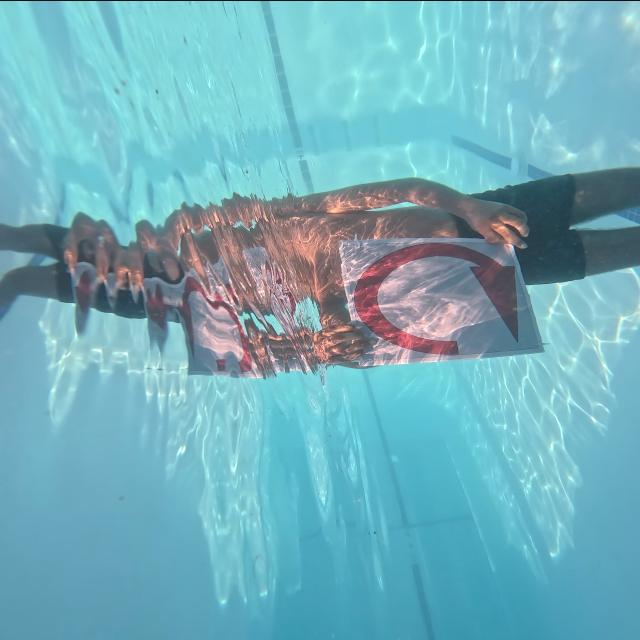red_side: (338, 240, 532, 368)
